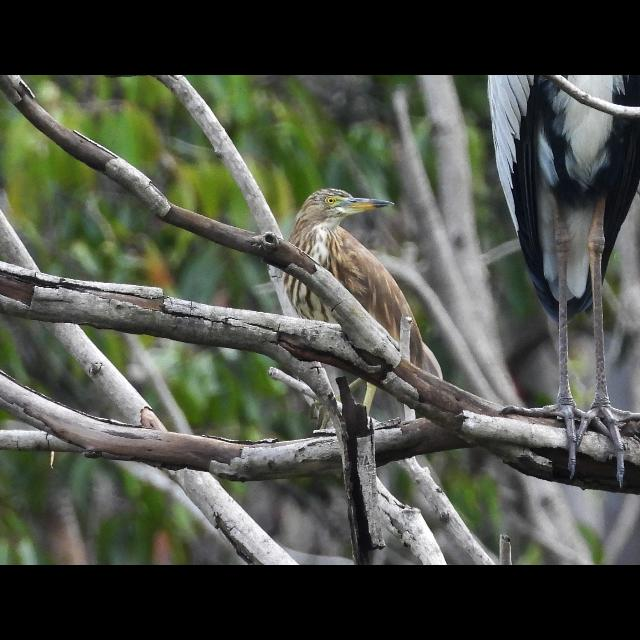heron: (285, 188, 441, 412)
